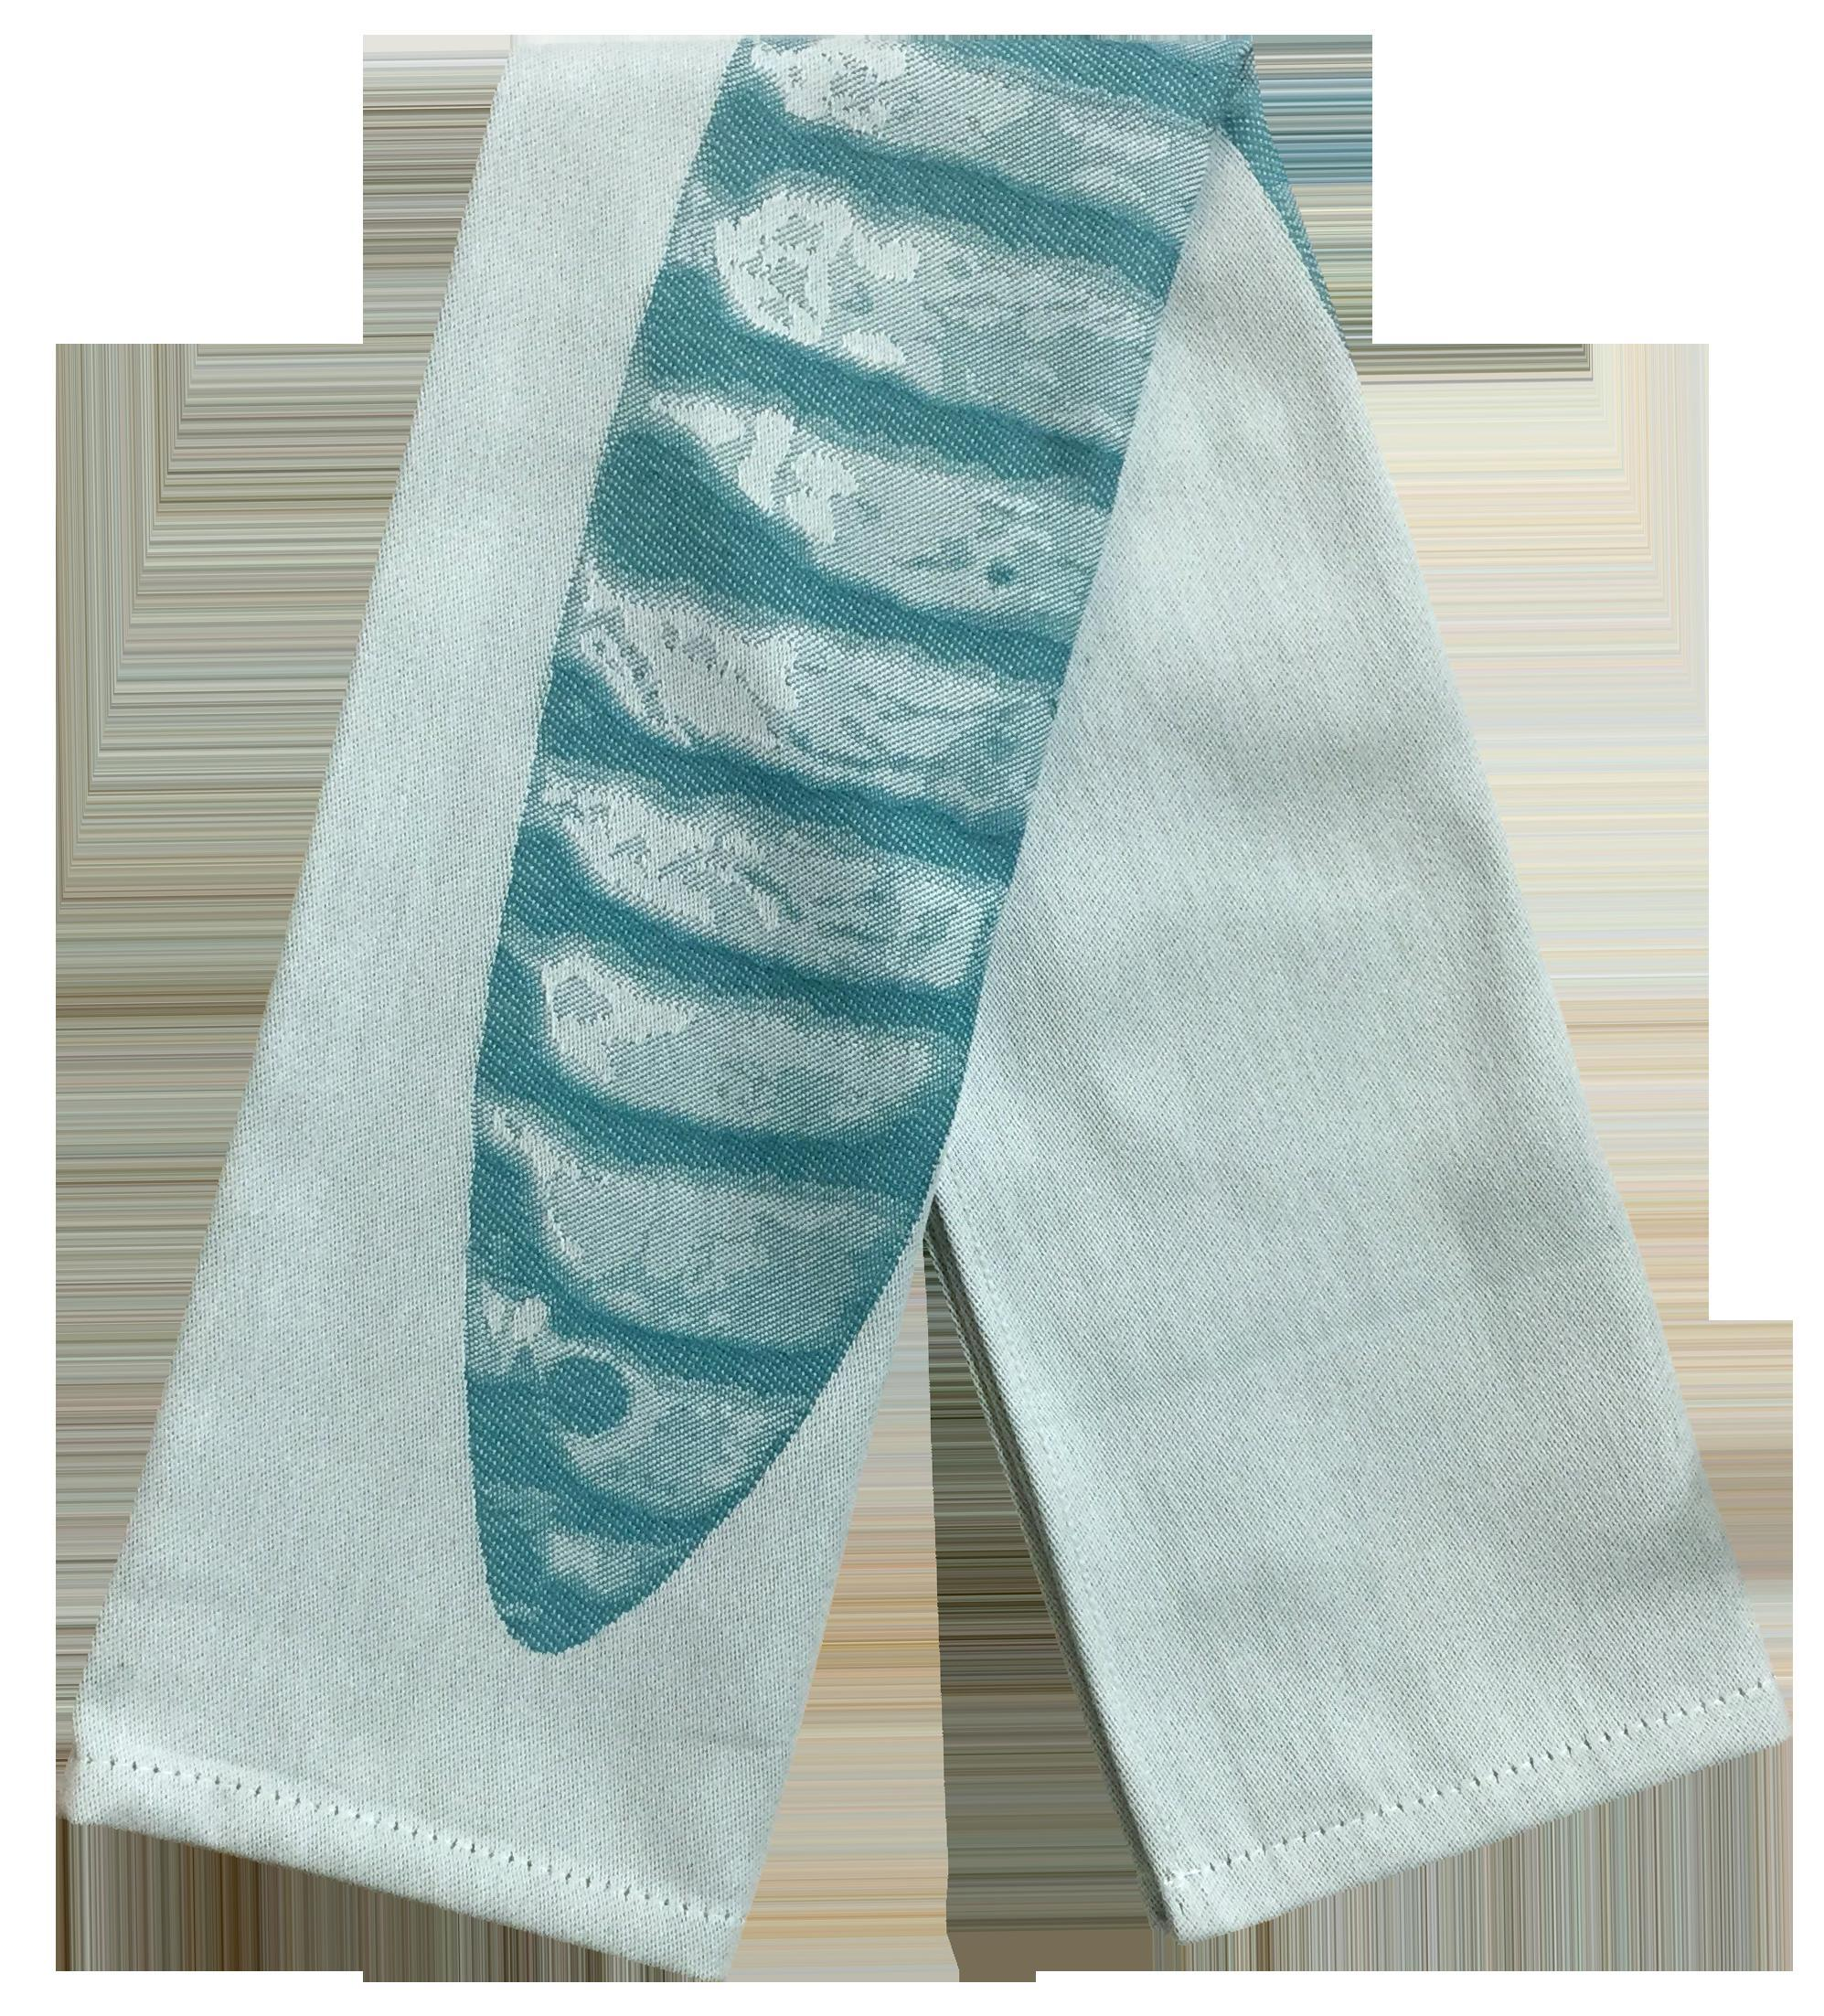towel: (265, 18, 1436, 1066)
